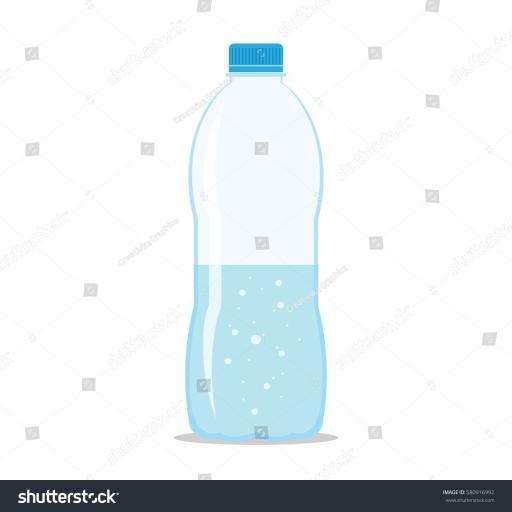bottle: (180, 36, 334, 452)
